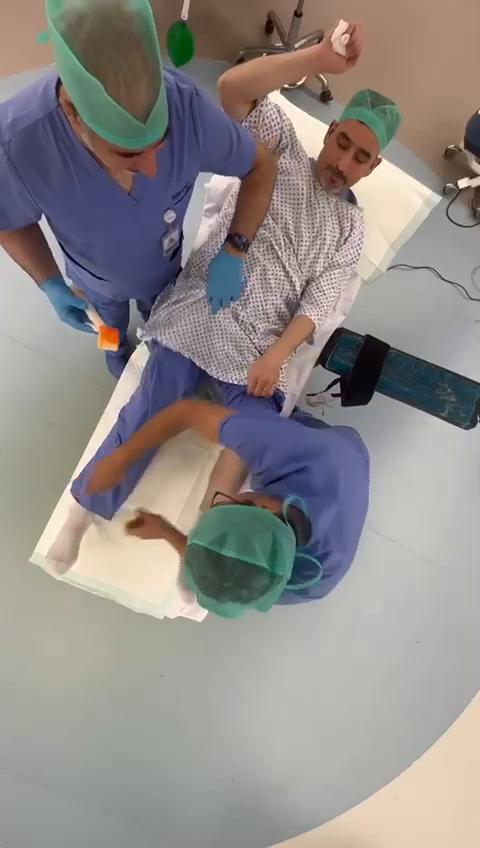patient: (73, 25, 401, 518), (46, 504, 88, 573)
prepstick: (86, 303, 121, 353)
